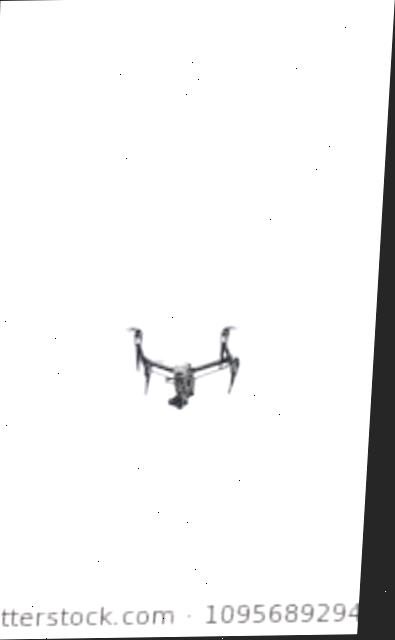drone: (90, 294, 276, 431)
